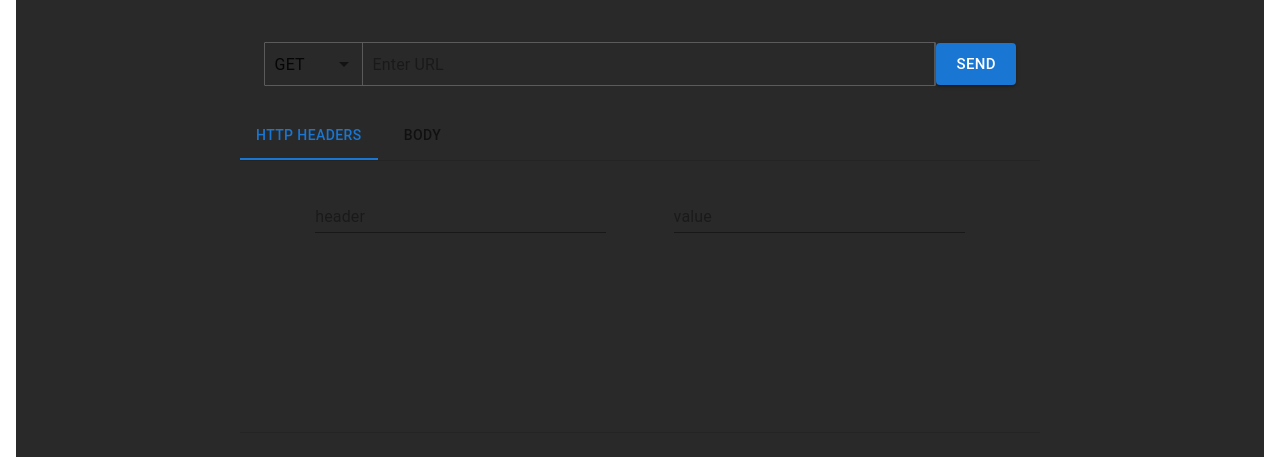
it: RestClient page › handles failed request
Click the button "Send".
click(976, 64)  # box [936,43,1016,85]
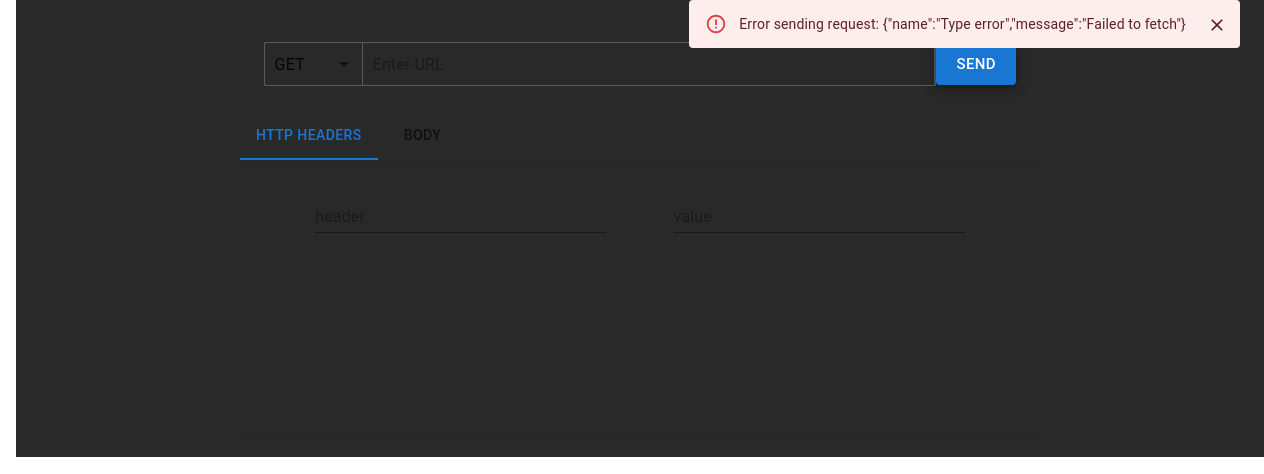
Result: the message shows "Error sending request:" at [739,16,1186,32]
